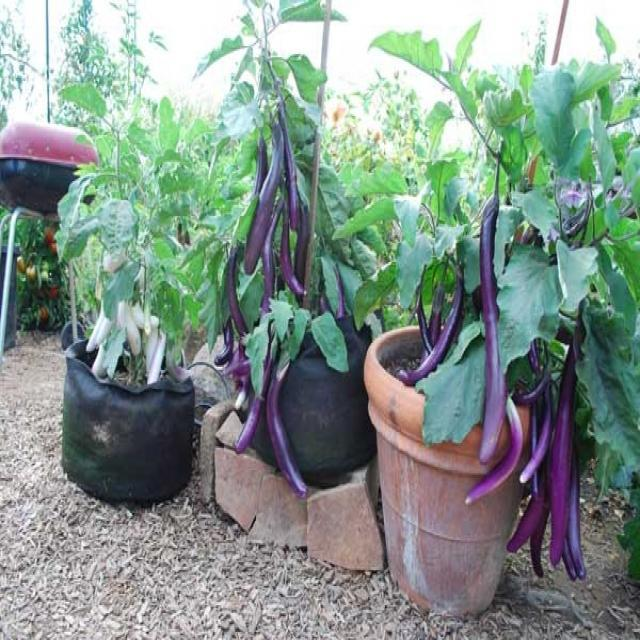brinjal: (340, 22, 640, 581), (196, 0, 377, 492), (60, 72, 218, 376)
